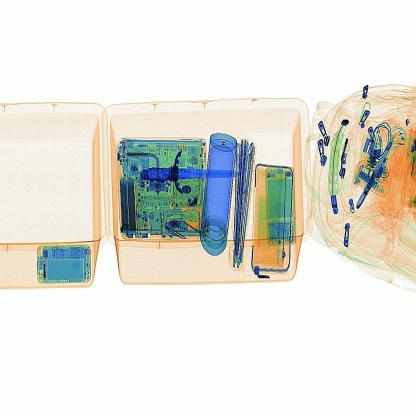wrench: (137, 152, 248, 196)
